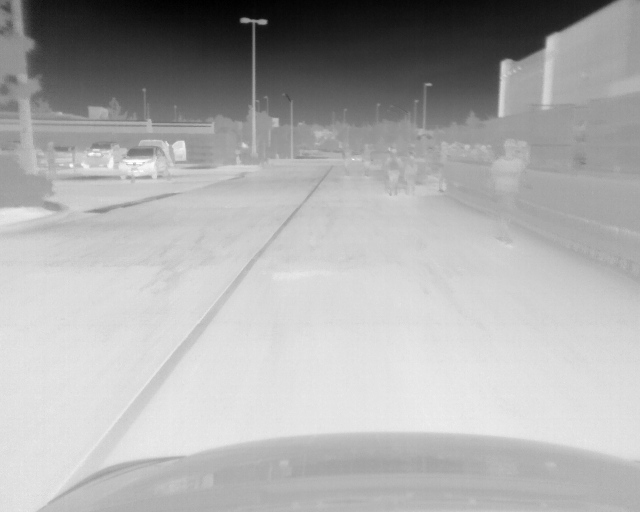car: (118, 145, 170, 180), (139, 139, 187, 166), (81, 142, 127, 169), (54, 143, 78, 169)
people: (491, 135, 531, 243), (384, 147, 403, 196), (403, 147, 417, 197), (438, 141, 451, 194), (361, 144, 374, 179), (341, 141, 352, 179)
